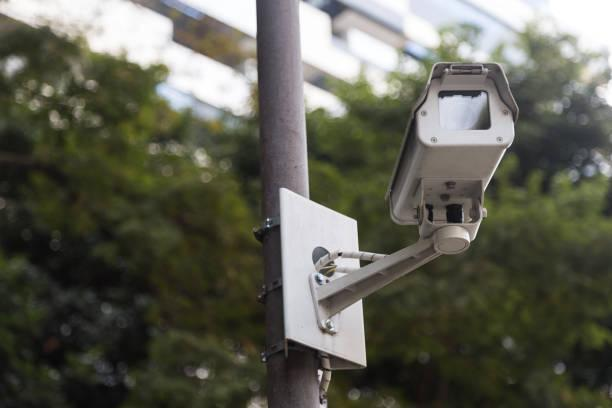camera: (379, 44, 531, 257)
